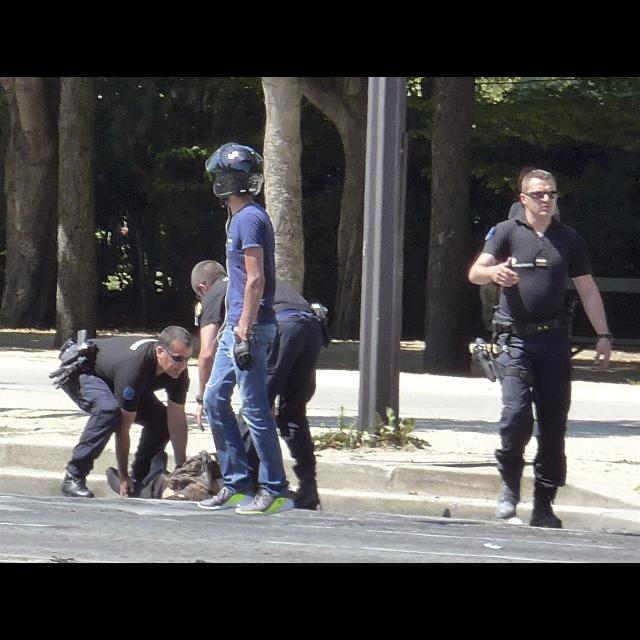head: (213, 151, 255, 199), (156, 326, 194, 379), (520, 170, 558, 218), (191, 260, 227, 300), (257, 462, 283, 492)
person: (466, 166, 614, 532), (197, 141, 297, 517), (188, 258, 332, 512), (48, 323, 196, 501), (102, 447, 276, 521)
